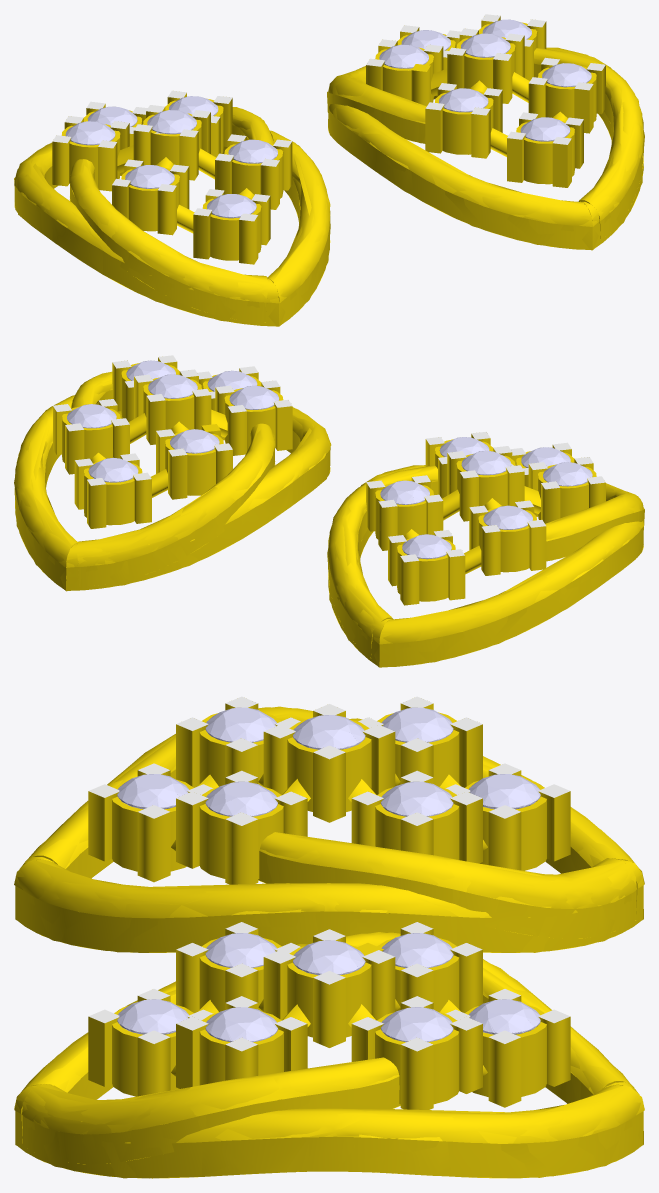
3 views of the same model, one above another, from view 1: azimuth 30°, elevation 25°; view 2: azimuth 150°, elevation 25°; view 3: azimuth 270°, elevation 25° (orthographic). The views are drawn at different scales.
Visible parts, largest first — view 1: lowPolyMesh, highPolyMesh; view 2: lowPolyMesh, highPolyMesh; view 3: lowPolyMesh, highPolyMesh.
Boxes of the visible parts, bbox=[...] form: lowPolyMesh: bbox=[14, 16, 643, 326]; highPolyMesh: bbox=[14, 14, 644, 326]; lowPolyMesh: bbox=[15, 357, 643, 667]; highPolyMesh: bbox=[14, 355, 644, 667]; lowPolyMesh: bbox=[15, 703, 643, 1178]; highPolyMesh: bbox=[14, 696, 644, 1178].
Size of the model in its own units: 0.0176 by 0.00396 by 0.0115.
